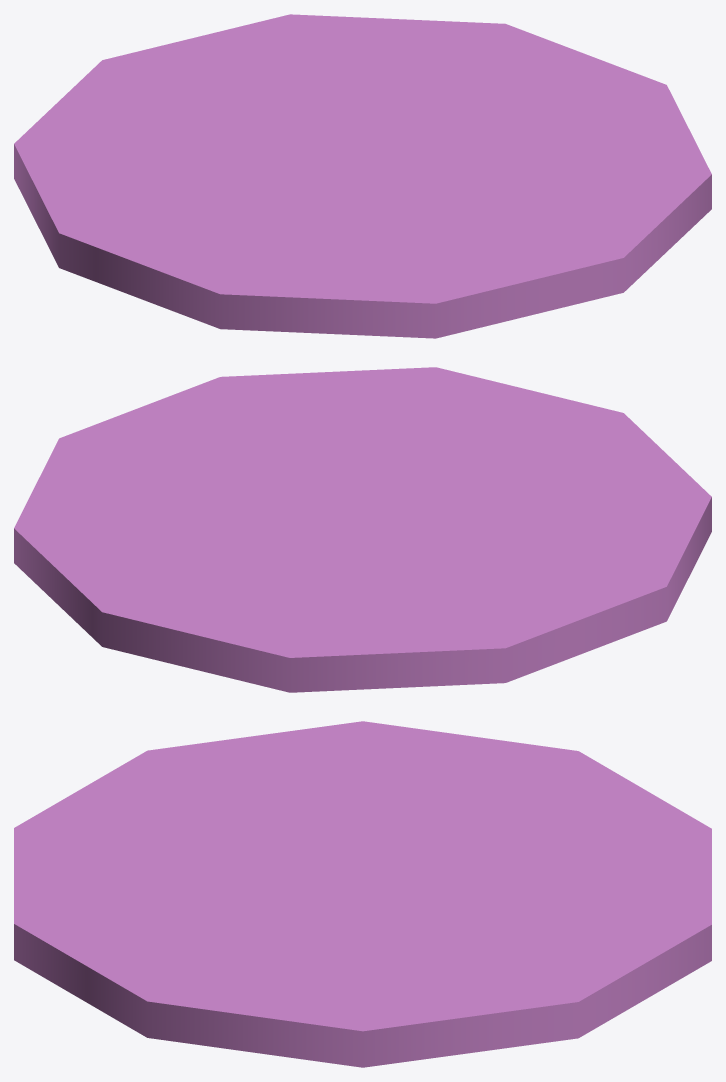
The model's file is manhole.fbx.
3 renders of one model, top to bottom at view 1: azimuth 30°, elevation 25°; view 2: azimuth 150°, elevation 25°; view 3: azimuth 270°, elevation 25°, orthographic. The views are drawn at different scales.
Parts seen in each view (by area): view 1: manhole; view 2: manhole; view 3: manhole.
Part boxes in pixels (box(x1,y1,x2,y2)): manhole: box(14, 14, 711, 338); manhole: box(14, 367, 711, 692); manhole: box(14, 721, 711, 1067).
Size of the model in its own units: 50.48 by 2.82 by 48.01.
